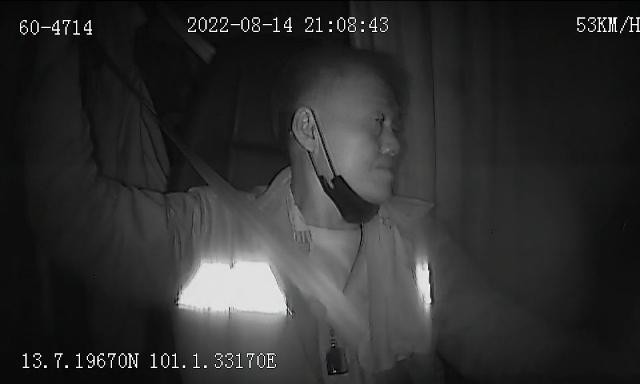Seatbelt: (167, 102, 365, 366)
